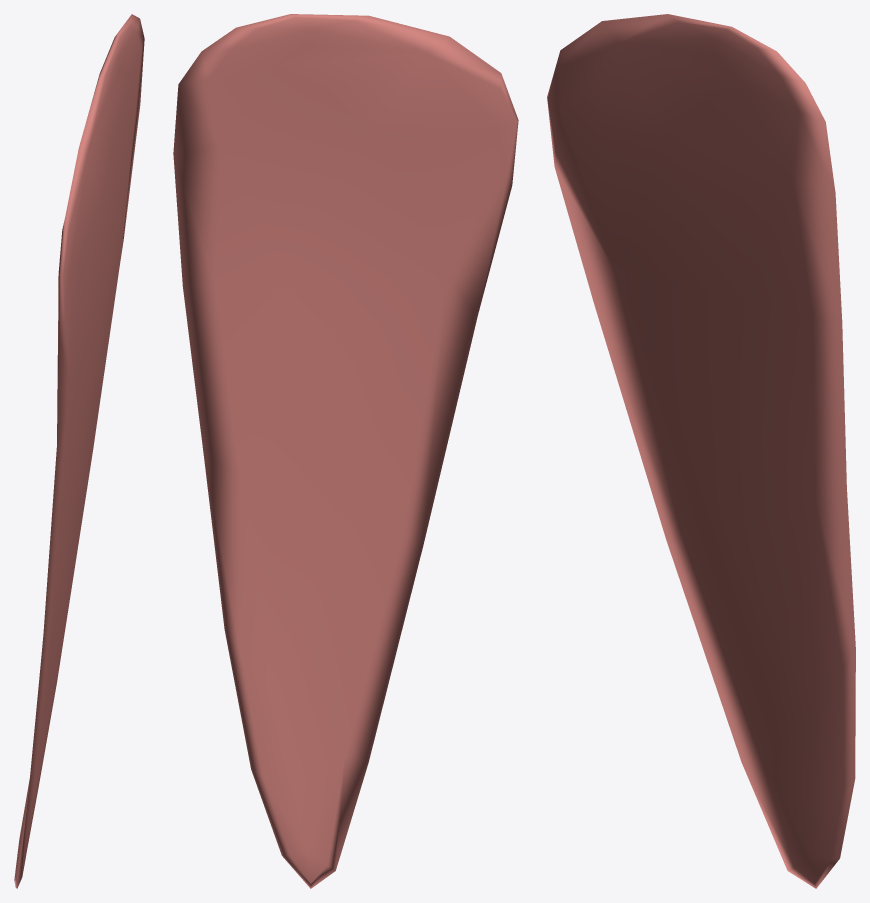
The picture shows the model from 3 angles, left to right: view 1: azimuth 30°, elevation 25°; view 2: azimuth 150°, elevation 25°; view 3: azimuth 270°, elevation 25°; orthographic projection. The views are drawn at different scales.
Parts seen in each view (by area): view 1: ZA_45d37da95a01539e; view 2: ZA_45d37da95a01539e; view 3: ZA_45d37da95a01539e.
Part boxes in pixels (x1,y1,x2,y2): ZA_45d37da95a01539e: [14, 14, 144, 888]; ZA_45d37da95a01539e: [173, 14, 518, 888]; ZA_45d37da95a01539e: [547, 14, 855, 888].
Size of the model in its own units: 0.0123 by 0.0462 by 0.0145.
